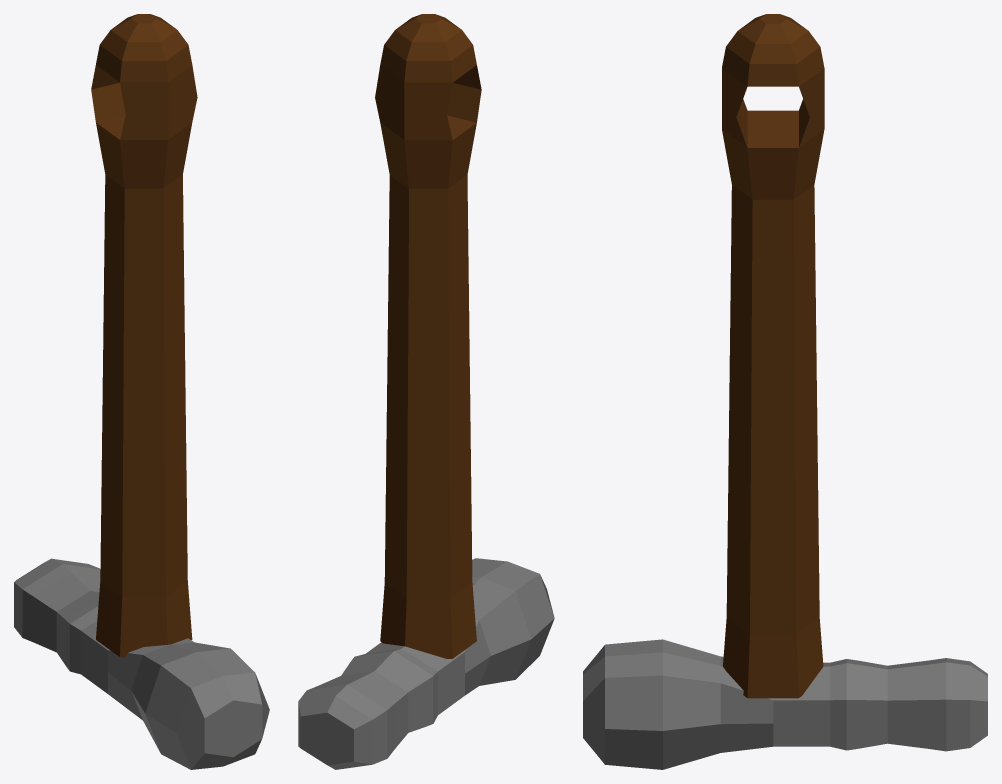
File: hammer.fbx
3 views of the same model, side by side, from view 1: azimuth 30°, elevation 25°; view 2: azimuth 150°, elevation 25°; view 3: azimuth 270°, elevation 25° (orthographic). The views are drawn at different scales.
Visible parts, largest first — view 1: Circle, Circle.001; view 2: Circle, Circle.001; view 3: Circle, Circle.001.
Part boxes in pixels (x1=…): Circle: x1=91, y1=14, x2=197, y2=657; Circle.001: x1=14, y1=558, x2=269, y2=769; Circle: x1=375, y1=14, x2=481, y2=658; Circle.001: x1=298, y1=558, x2=554, y2=769; Circle: x1=722, y1=14, x2=824, y2=698; Circle.001: x1=583, y1=639, x2=987, y2=769.
Size of the model in its own units: 243 by 1587 by 789.
